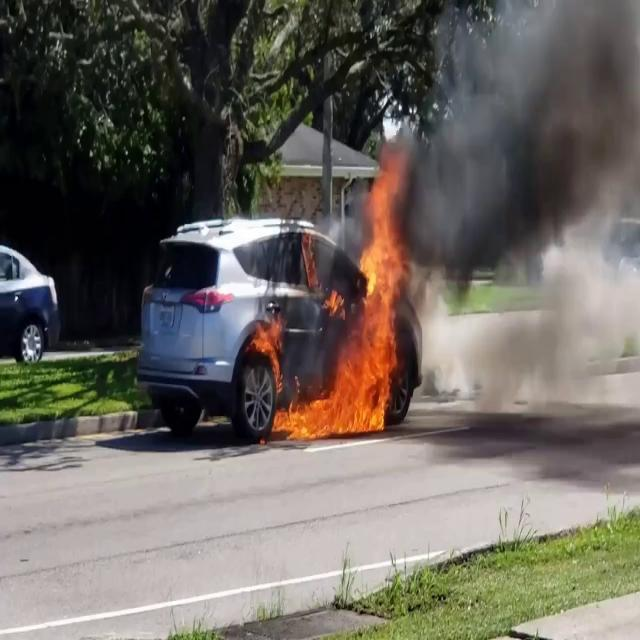Fire: (282, 165, 412, 443), (270, 374, 396, 446), (247, 308, 287, 396)
Smoke: (400, 1, 640, 334)
